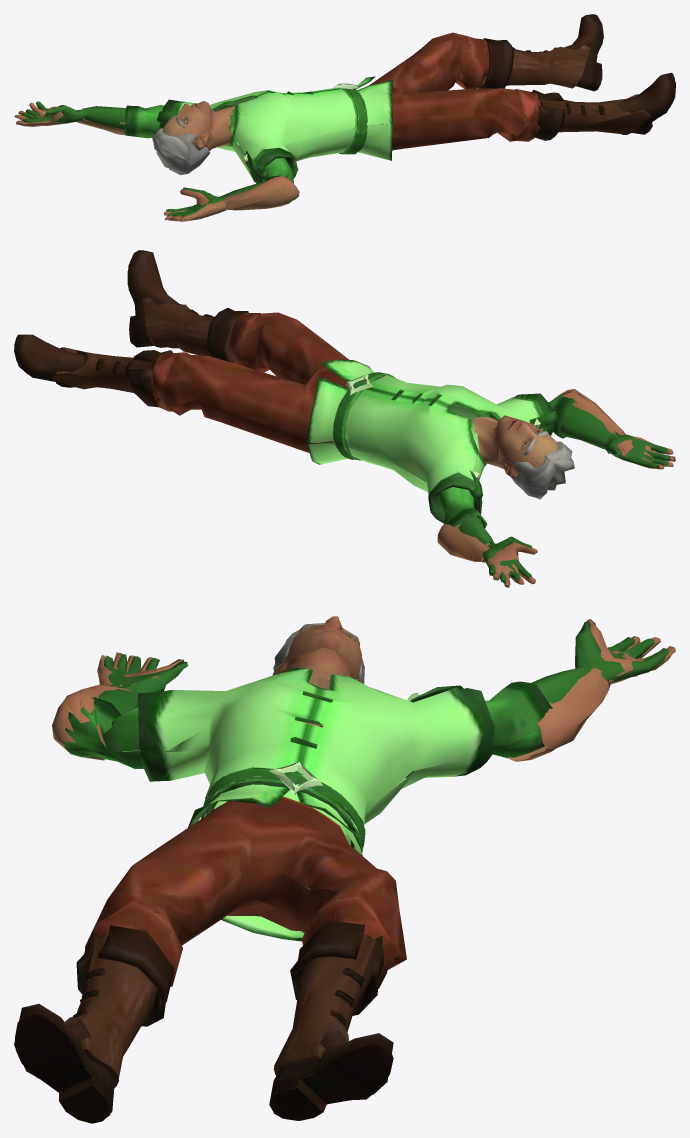
File: dbody1.glb
3 renders of one model, top to bottom at view 1: azimuth 30°, elevation 25°; view 2: azimuth 150°, elevation 25°; view 3: azimuth 270°, elevation 25°, orthographic. The views are drawn at different scales.
Visible parts, largest first — view 1: Male_Peasant_Arms_baked; view 2: Male_Peasant_Arms_baked; view 3: Male_Peasant_Arms_baked.
Part boxes in pixels (x1,y1,x2,y2): Male_Peasant_Arms_baked: [14, 14, 675, 221]; Male_Peasant_Arms_baked: [14, 250, 675, 587]; Male_Peasant_Arms_baked: [14, 616, 675, 1123].
Size of the model in its own units: 1.35 by 0.2158 by 0.8014.
Materials: 10 (10 with a texture image).
